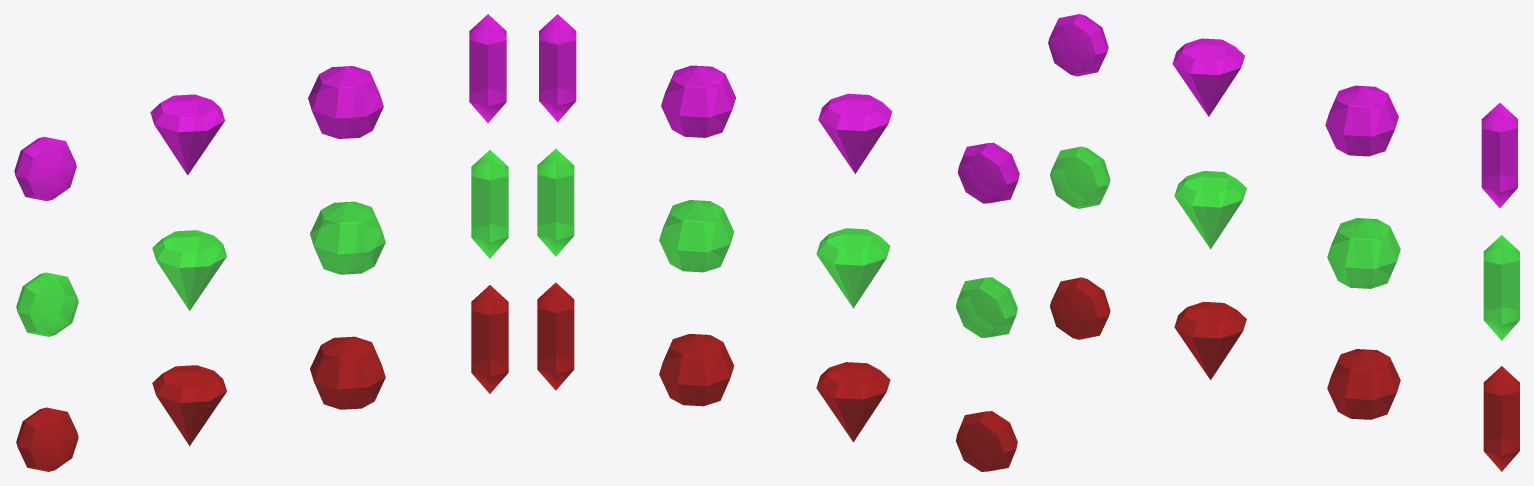
The model's file is CrystalsFBX.fbx.
The picture shows the model from 3 angles, left to right: view 1: azimuth 30°, elevation 25°; view 2: azimuth 150°, elevation 25°; view 3: azimuth 330°, elevation 25°; orthographic projection. The views are drawn at different scales.
Parts seen in each view (by area): view 1: pSphere1, pSphere2, pSphere4, pCylinder12, pCylinder2, pCylinder6, pCylinder3, pCylinder5, pCylinder11, pCylinder13, pCylinder4, pCylinder7; view 2: pSphere2, pSphere1, pSphere4, pCylinder2, pCylinder12, pCylinder6, pCylinder5, pCylinder3, pCylinder11, pCylinder4, pCylinder7, pCylinder13; view 3: pSphere4, pSphere1, pSphere2, pCylinder12, pCylinder2, pCylinder6, pCylinder11, pCylinder3, pCylinder5, pCylinder4, pCylinder7, pCylinder13.
Boxes of the visible parts, x1,y1,x2,y2 form: pSphere1: (310,336,385,409); pSphere2: (310,201,385,274); pSphere4: (308,66,383,138); pCylinder12: (150,94,224,175); pCylinder2: (152,365,226,445); pCylinder6: (152,230,226,310); pCylinder3: (471,285,508,393); pCylinder5: (471,150,508,258); pCylinder11: (469,14,506,122); pCylinder13: (14,136,76,201); pCylinder4: (16,407,78,471); pCylinder7: (16,272,78,336); pSphere2: (659,200,734,272); pSphere1: (659,334,734,406); pSphere4: (661,65,735,137); pCylinder2: (816,362,890,442); pCylinder12: (818,93,892,173); pCylinder6: (816,228,890,308); pCylinder5: (537,148,574,256); pCylinder3: (537,282,574,390); pCylinder11: (539,14,576,122); pCylinder4: (956,411,1017,471); pCylinder7: (956,277,1017,337); pCylinder13: (957,142,1019,203); pSphere4: (1325,85,1398,156); pSphere1: (1327,349,1400,419); pSphere2: (1327,218,1400,288); pCylinder12: (1172,38,1244,116); pCylinder2: (1174,301,1246,380); pCylinder6: (1174,171,1246,249); pCylinder11: (1481,103,1517,208); pCylinder3: (1483,366,1519,471); pCylinder5: (1483,235,1519,340); pCylinder4: (1050,277,1110,339); pCylinder7: (1050,146,1110,208); pCylinder13: (1048,14,1108,76).
Size of the model in its own units: 16.65 by 12.37 by 2.32.
